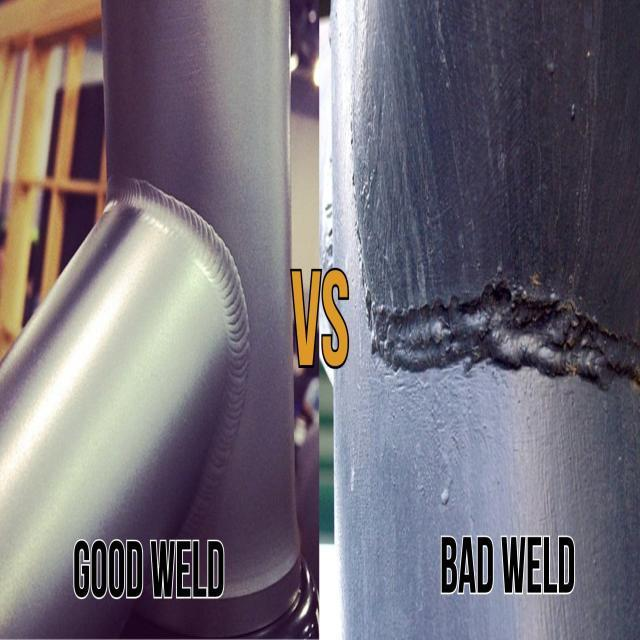Bad Welding: (366, 282, 640, 387)
Good Welding: (105, 178, 250, 498)
